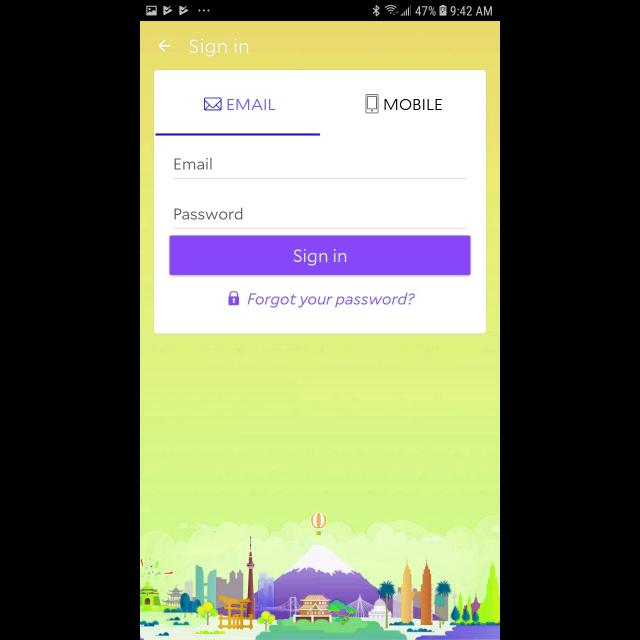backgroundimage: (140, 22, 500, 640)
icon: (366, 94, 378, 114), (204, 98, 222, 110), (228, 290, 240, 306), (158, 40, 172, 52)
image: (140, 512, 500, 640)
input: (173, 207, 467, 229), (173, 157, 467, 179)
text: (248, 292, 416, 308), (189, 38, 249, 58), (175, 208, 243, 220), (385, 99, 443, 111), (228, 99, 276, 111), (174, 157, 212, 170)
textbutton: (170, 236, 470, 276)
uppertaskbar: (140, 1, 500, 22)
